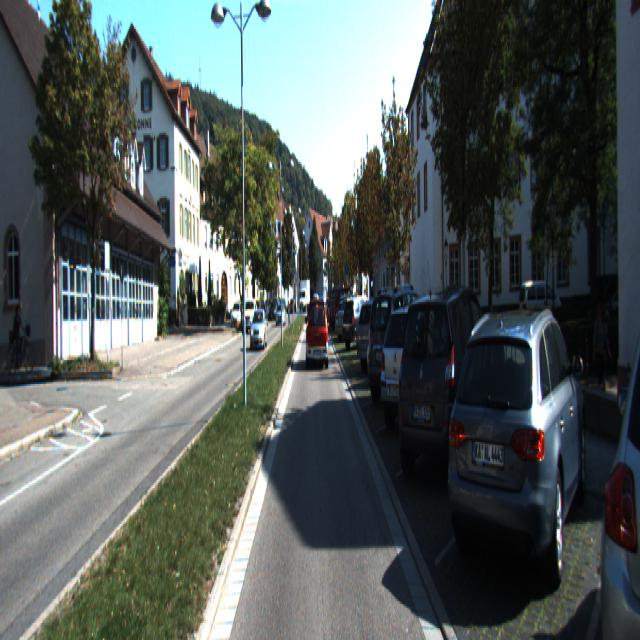Car: (442, 304, 592, 616), (395, 286, 505, 499), (377, 295, 470, 439), (606, 280, 639, 638), (364, 287, 441, 408), (354, 298, 411, 371), (342, 295, 383, 348), (307, 298, 329, 368), (334, 297, 367, 340), (329, 288, 357, 330), (251, 310, 268, 350), (242, 300, 258, 334), (232, 302, 242, 328), (276, 304, 286, 326)
